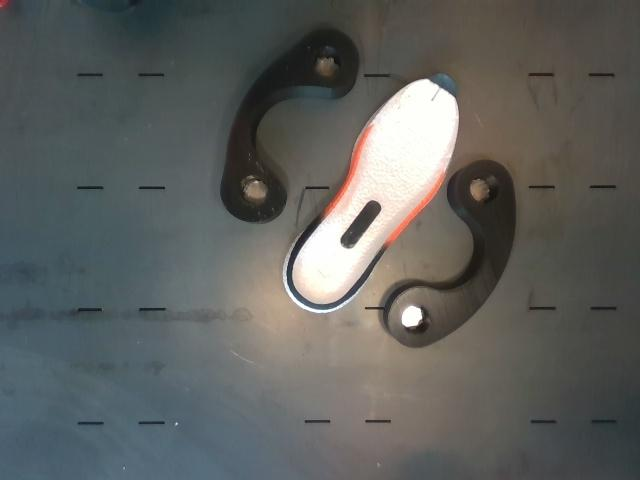shoes: (292, 74, 457, 304)
